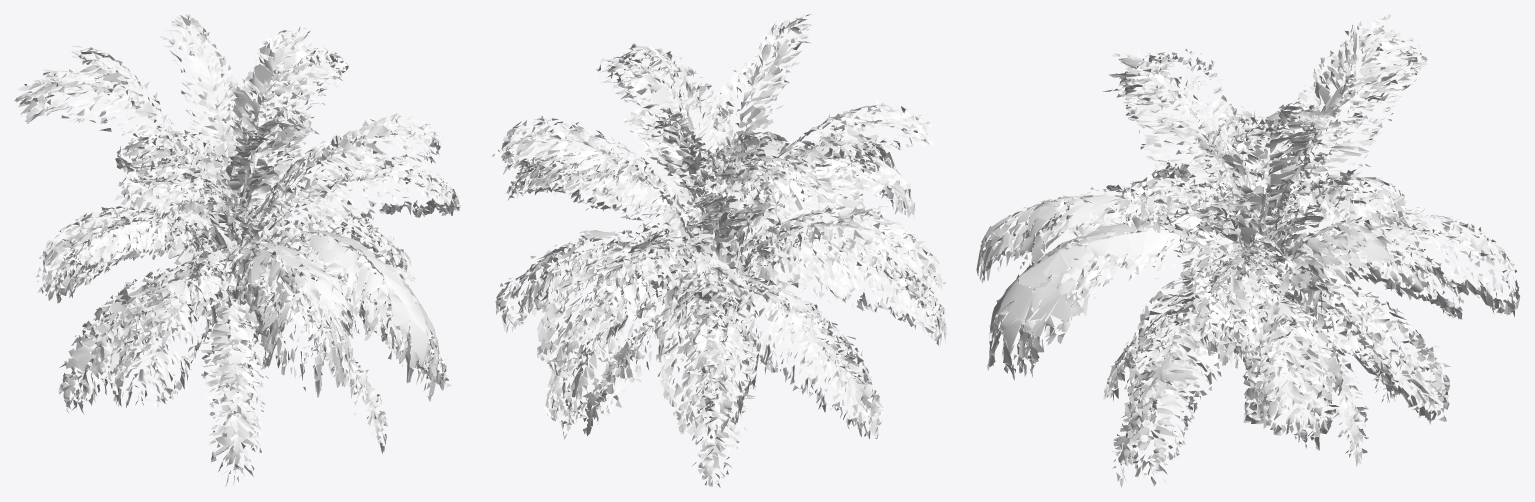
Rendered from beach-palm-tree.glb.
3 renders of one model, left to right at view 1: azimuth 30°, elevation 25°; view 2: azimuth 150°, elevation 25°; view 3: azimuth 270°, elevation 25°, orthographic. The views are drawn at different scales.
Parts seen in each view (by area): view 1: model; view 2: model; view 3: model.
Boxes of the visible parts, bbox=[...] form: model: bbox=[14, 14, 462, 486]; model: bbox=[492, 14, 946, 487]; model: bbox=[976, 14, 1520, 487].
Bounding box in the file's own units: 1.75 × 1.47 × 1.88.
Materials: 1 (1 with a texture image).
